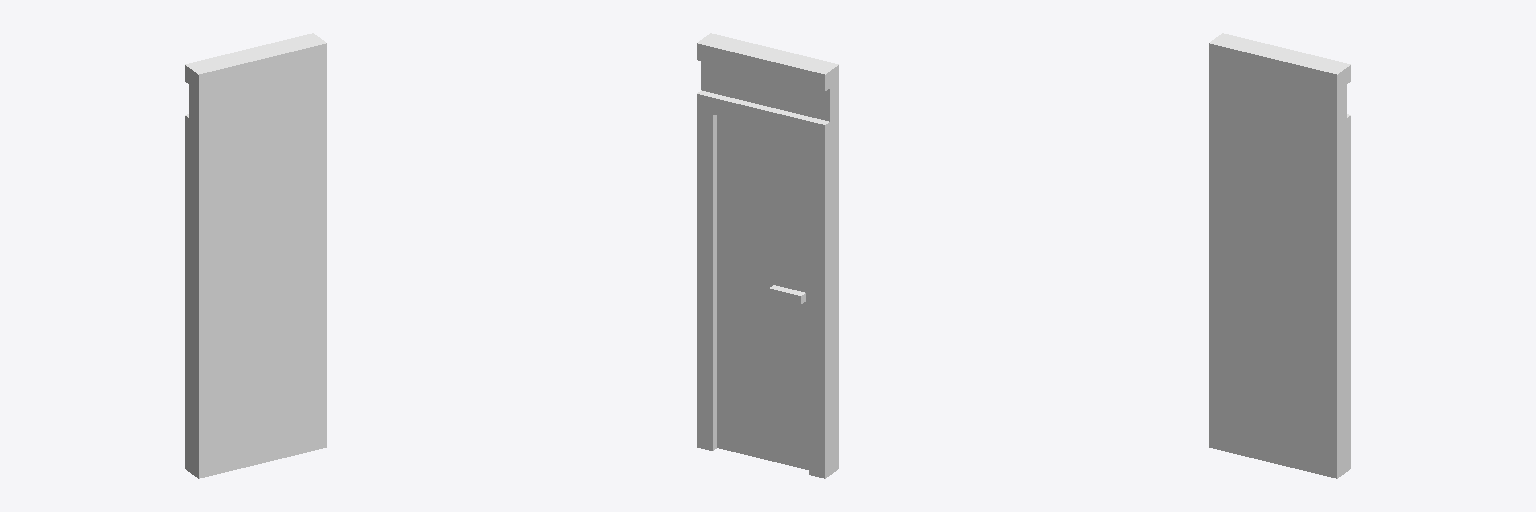
File: WallsSimpleV1Door.obj
3 views of the same model, side by side, from view 1: azimuth 30°, elevation 25°; view 2: azimuth 150°, elevation 25°; view 3: azimuth 330°, elevation 25° (orthographic).
Visible parts, largest first — view 1: object 1; view 2: object 1; view 3: object 1.
Boxes of the visible parts, <box> form: object 1: <box>185,33,326,478</box>; object 1: <box>697,33,838,478</box>; object 1: <box>1209,33,1350,478</box>.
Bounding box in the file's own units: 1.6 × 4.8 × 0.3.